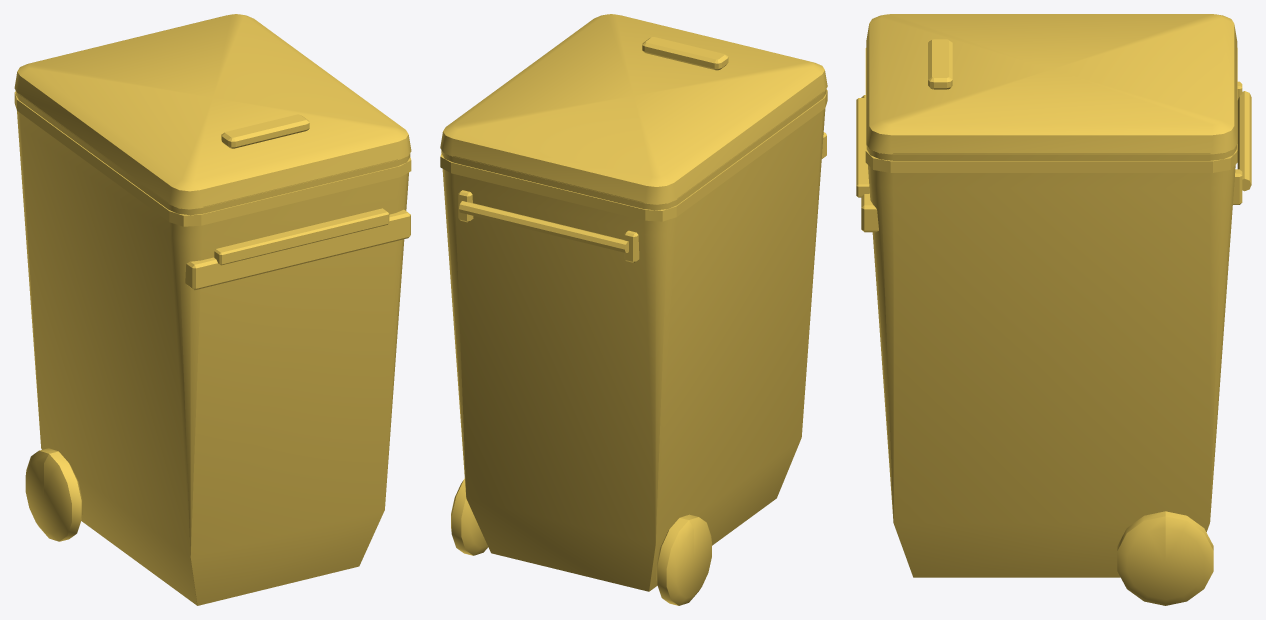
The model's file is laundrette-and-cleaning-wheeled-bin-240-recycling-d29c079d__25631.glb.
3 views of the same model, side by side, from view 1: azimuth 30°, elevation 25°; view 2: azimuth 150°, elevation 25°; view 3: azimuth 270°, elevation 25° (orthographic). The views are drawn at different scales.
Parts seen in each view (by area): view 1: wheeled-bin-240-recycling, lid; view 2: wheeled-bin-240-recycling, lid; view 3: wheeled-bin-240-recycling, lid.
Part boxes in pixels (x1,y1,x2,y2): wheeled-bin-240-recycling: (14, 90, 411, 605); lid: (14, 14, 411, 209); wheeled-bin-240-recycling: (440, 89, 827, 605); lid: (440, 14, 827, 204); wheeled-bin-240-recycling: (856, 48, 1251, 605); lid: (866, 14, 1237, 154).
Bounding box in the file's own units: 0.5921 × 1.09 × 0.799.
